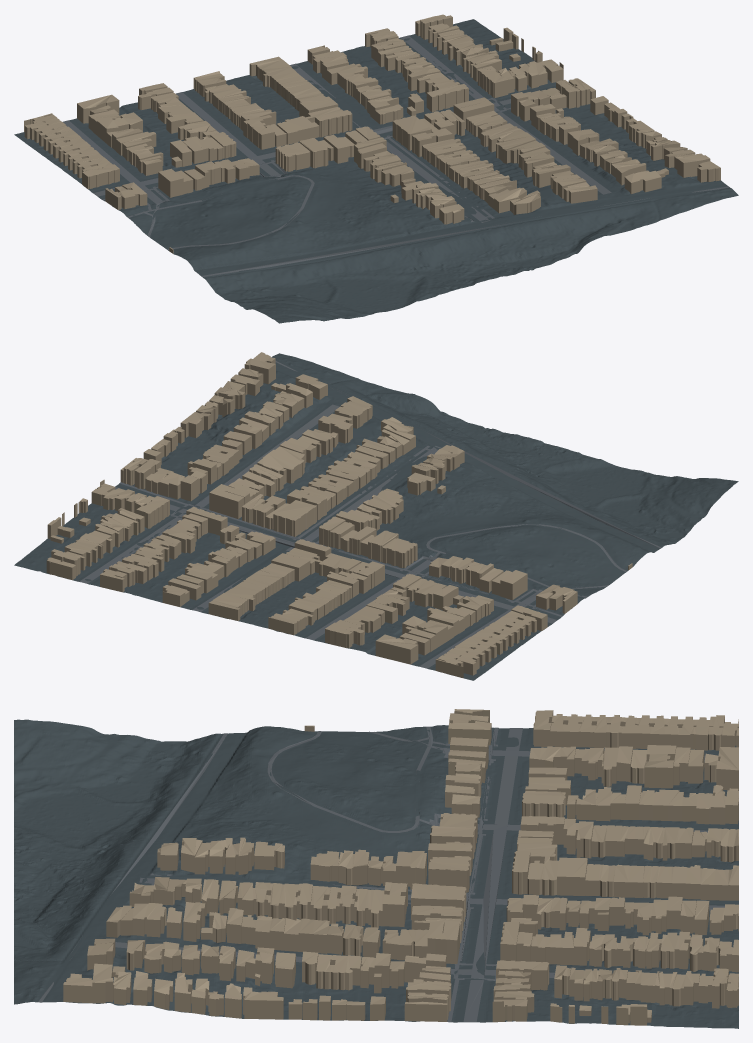
Rendered from epsg26910-1424-10891.lod0.glb.
3 renders of one model, top to bottom at view 1: azimuth 30°, elevation 25°; view 2: azimuth 150°, elevation 25°; view 3: azimuth 270°, elevation 25°, orthographic. The views are drawn at different scales.
Parts seen in each view (by area): view 1: epsg26910-1424-10891-lod0; view 2: epsg26910-1424-10891-lod0; view 3: epsg26910-1424-10891-lod0.
Boxes of the visible parts, bbox=[...] form: epsg26910-1424-10891-lod0: bbox=[14, 14, 738, 323]; epsg26910-1424-10891-lod0: bbox=[14, 352, 738, 680]; epsg26910-1424-10891-lod0: bbox=[14, 709, 738, 1028].
Size of the model in its own units: 384 by 39.39 by 384.
